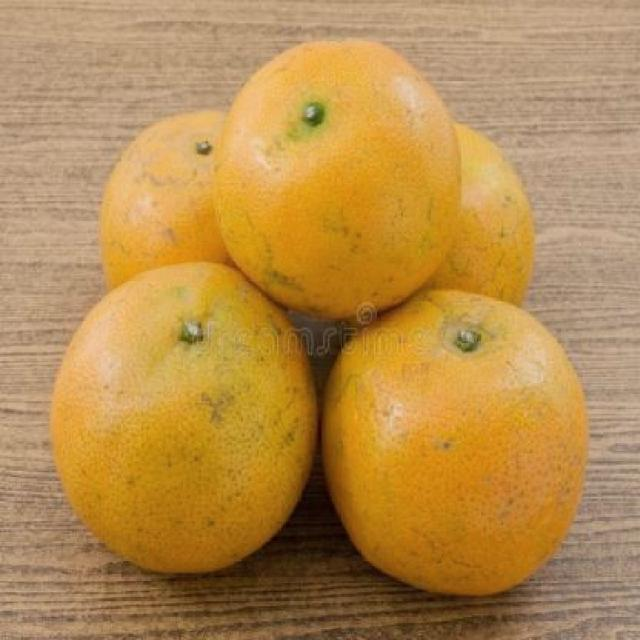Jeruk Sudah Matang: (326, 286, 591, 600), (52, 264, 316, 573), (214, 40, 460, 311), (318, 109, 534, 357), (94, 109, 288, 354)
